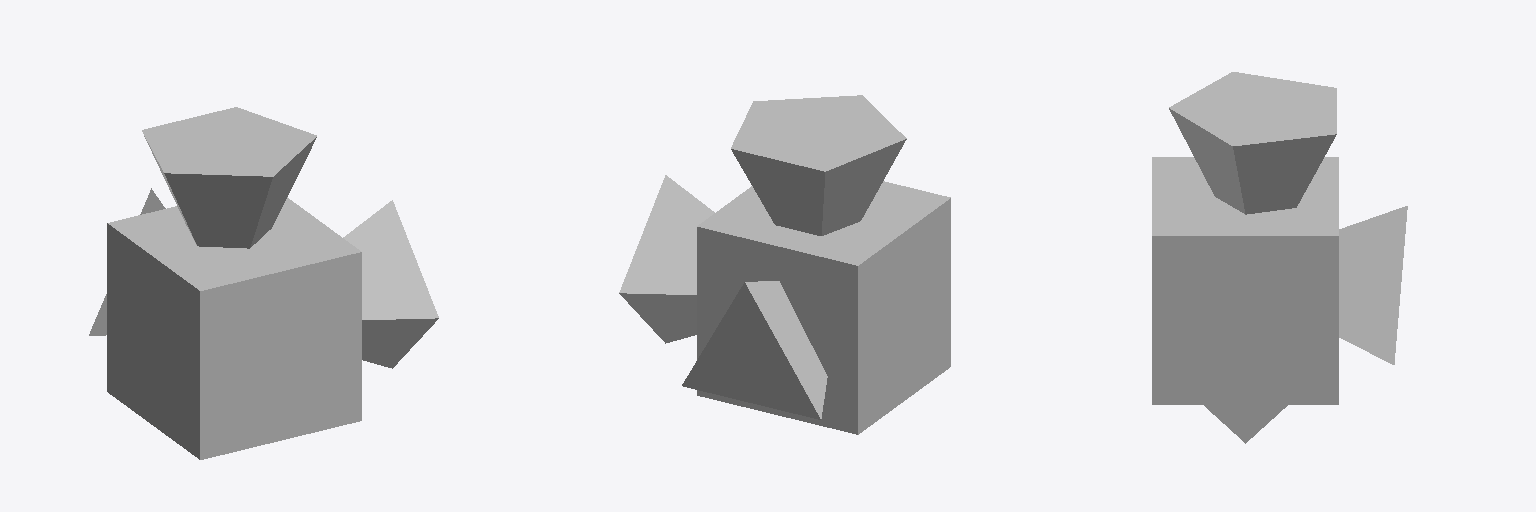
File: teste_eixo.obj
3 views of the same model, side by side, from view 1: azimuth 30°, elevation 25°; view 2: azimuth 150°, elevation 25°; view 3: azimuth 270°, elevation 25° (orthographic).
Visible parts, largest first — view 1: Cube; view 2: Cube; view 3: Cube.
Boxes of the visible parts, box(x1,y1,x2,y2) form: Cube: box(89, 107, 438, 459); Cube: box(619, 95, 950, 434); Cube: box(1152, 72, 1407, 443).
Size of the model in its own units: 2.96 by 3.06 by 2.74.